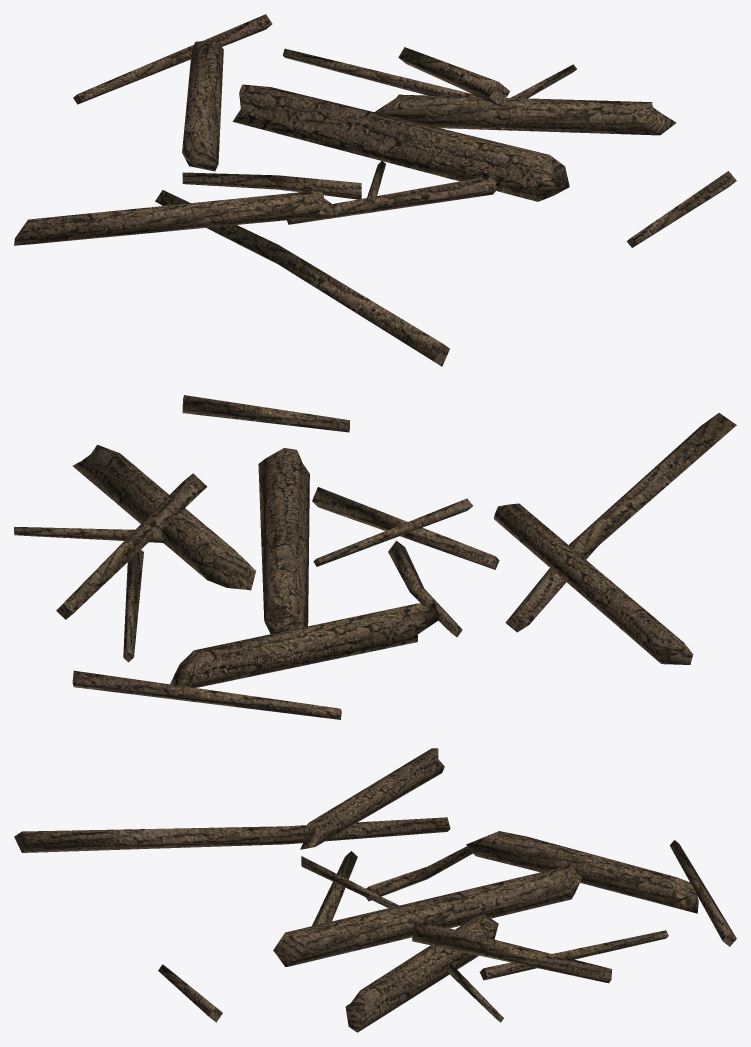
Rendered from Vegetation_Deadtree04.glb.
3 renders of one model, top to bottom at view 1: azimuth 30°, elevation 25°; view 2: azimuth 150°, elevation 25°; view 3: azimuth 270°, elevation 25°, orthographic. The views are drawn at different scales.
Visible parts, largest first — view 1: xiutz_deadtree04; view 2: xiutz_deadtree04; view 3: xiutz_deadtree04.
Boxes of the visible parts, <box> form: xiutz_deadtree04: <box>14,14,736,366</box>; xiutz_deadtree04: <box>14,395,736,719</box>; xiutz_deadtree04: <box>14,748,736,1032</box>.
Bounding box in the file's own units: 10.29 × 0.9955 × 11.41.
Materials: 1 (1 with a texture image).
